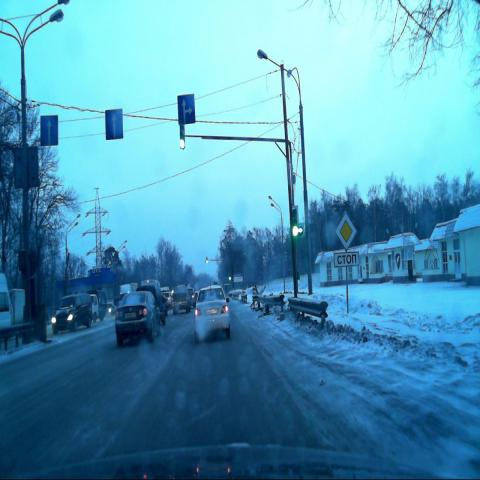6_16: (334, 251, 360, 267)
